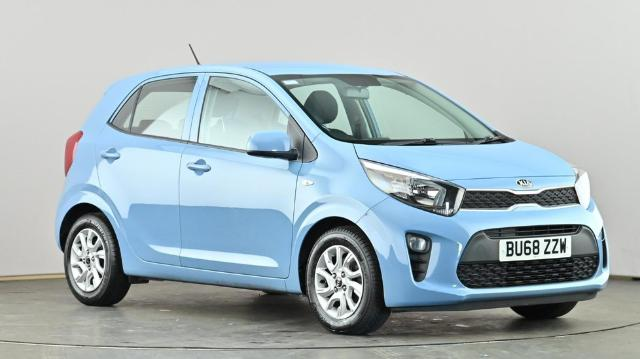kia: (54, 44, 610, 336)
